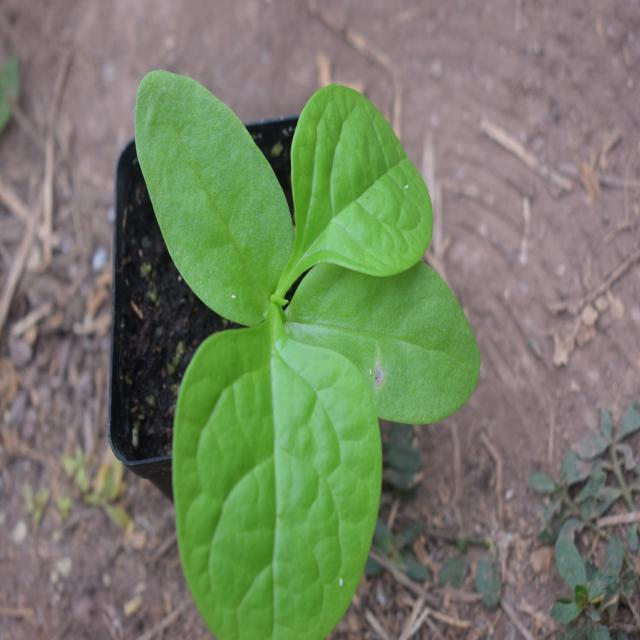Ceylon spinach: (129, 54, 474, 631)
